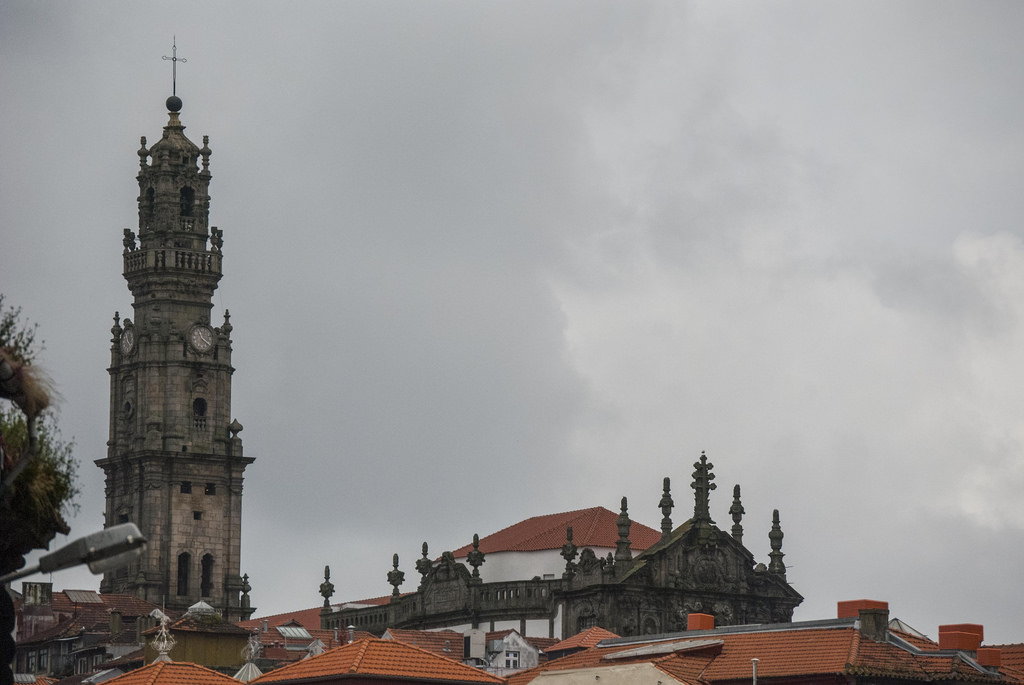clerigos: (88, 34, 254, 614)
